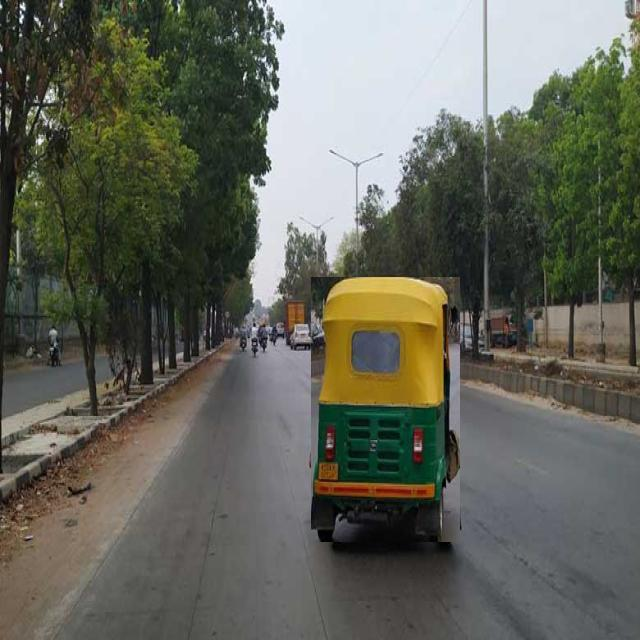autorickshaw: (311, 277, 460, 542)
